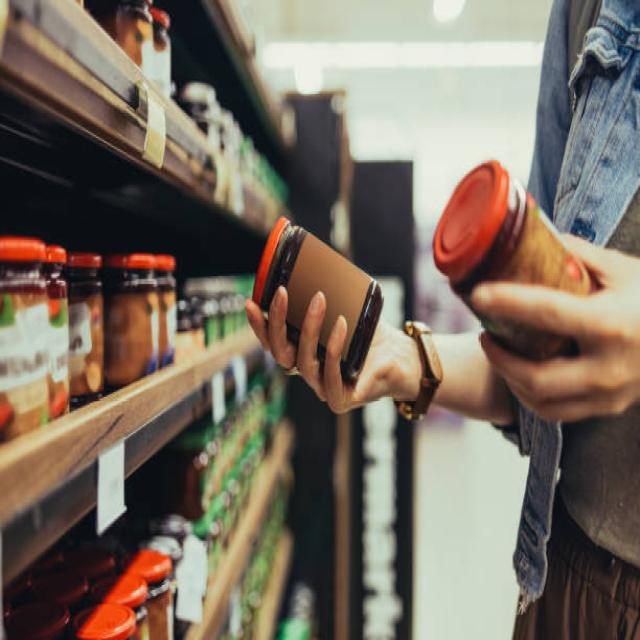article: (433, 160, 594, 359), (252, 218, 383, 381)
hands: (472, 235, 639, 420), (246, 287, 416, 411)
